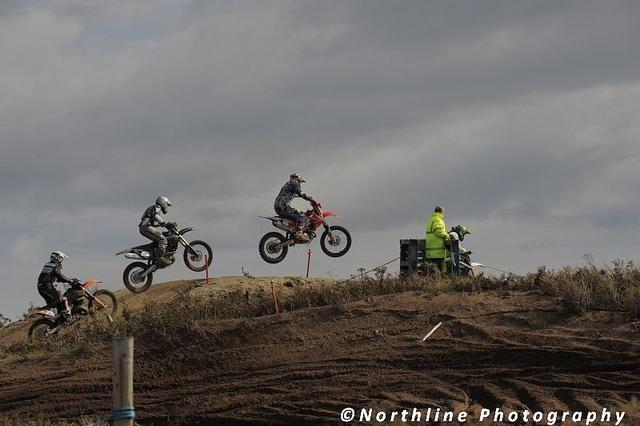motorcycle: (115, 222, 212, 293), (260, 198, 351, 263), (29, 282, 119, 341), (459, 250, 486, 277)
